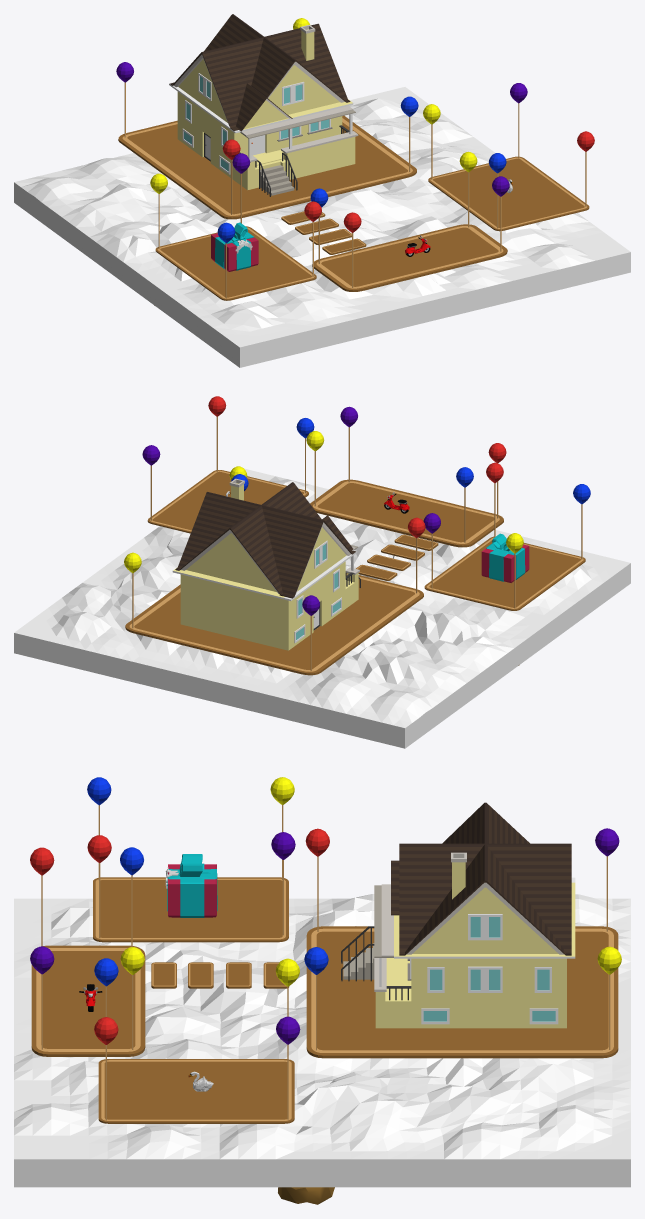
The picture shows the model from 3 angles, top to bottom: view 1: azimuth 30°, elevation 25°; view 2: azimuth 150°, elevation 25°; view 3: azimuth 270°, elevation 25°; orthographic projection. The views are drawn at different scales.
Visible parts, largest first — view 1: Cube.013, Cube.1555, OBJRANDOM_GIANT_PRESENT; view 2: Cube.013, Cube.1555, OBJRANDOM_GIANT_PRESENT; view 3: Cube.013, Cube.1555, OBJRANDOM_GIANT_PRESENT, UNDERGROUND_T_REX_BONES.
Part boxes in pixels (x1,y1,x2,y2): Cube.013: [14, 18, 630, 367]; Cube.1555: [169, 14, 358, 196]; OBJRANDOM_GIANT_PRESENT: [211, 222, 258, 271]; Cube.013: [14, 396, 630, 748]; Cube.1555: [172, 478, 360, 650]; OBJRANDOM_GIANT_PRESENT: [481, 533, 529, 582]; Cube.013: [14, 777, 630, 1187]; Cube.1555: [341, 802, 575, 1028]; OBJRANDOM_GIANT_PRESENT: [165, 854, 217, 917]; UNDERGROUND_T_REX_BONES: [278, 1187, 334, 1204].
Size of the model in its own units: 4000 by 1799 by 4000.
35 materials, 1 textured.
